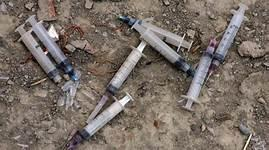Syringe: (178, 0, 248, 110), (12, 11, 81, 92)
